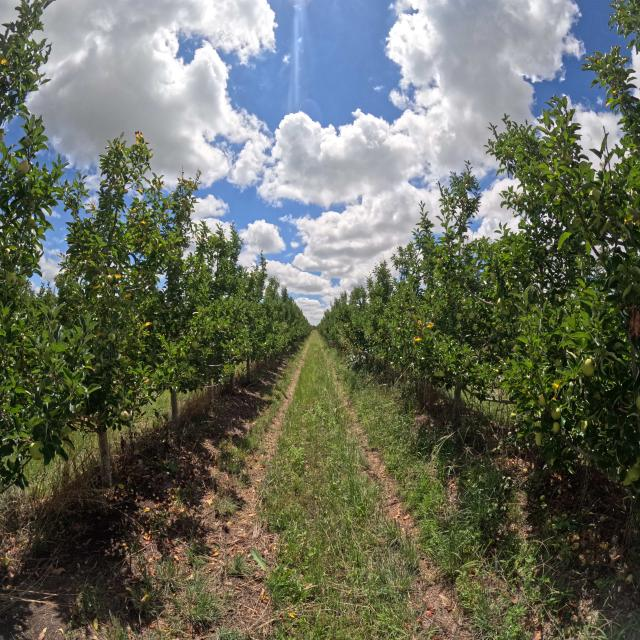-FireBlight-: (621, 302, 640, 340)
